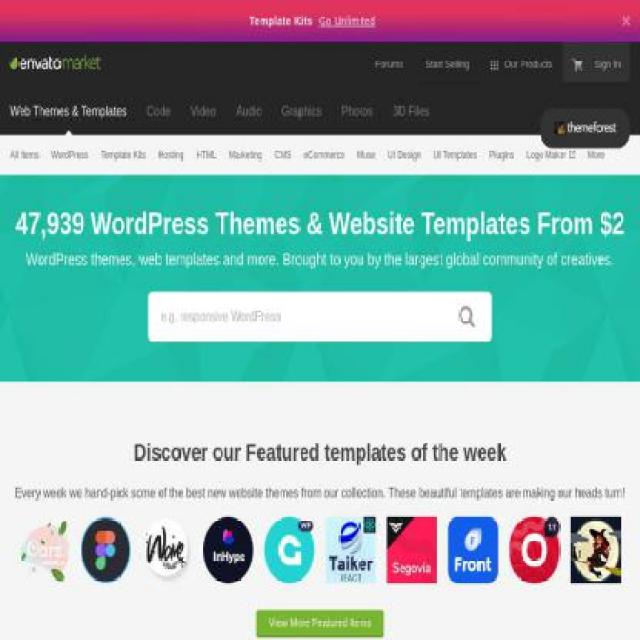button: (0, 0, 640, 43), (10, 89, 127, 136), (10, 42, 101, 83), (256, 609, 384, 637), (479, 42, 563, 83), (412, 42, 480, 83), (442, 292, 492, 342), (362, 42, 413, 83), (281, 89, 322, 136), (586, 42, 631, 83), (392, 89, 431, 136), (520, 142, 582, 170), (94, 142, 152, 170), (427, 142, 484, 170), (296, 142, 352, 170), (341, 89, 373, 136), (44, 142, 96, 170), (222, 142, 268, 170), (382, 142, 428, 170), (190, 89, 216, 136), (236, 89, 262, 136), (612, 0, 640, 43), (146, 89, 171, 136), (4, 142, 45, 170), (482, 142, 521, 170), (562, 42, 588, 83), (152, 142, 190, 170), (189, 142, 223, 170), (350, 142, 382, 170), (580, 142, 612, 170), (268, 142, 298, 170)
field: (148, 292, 442, 342)
